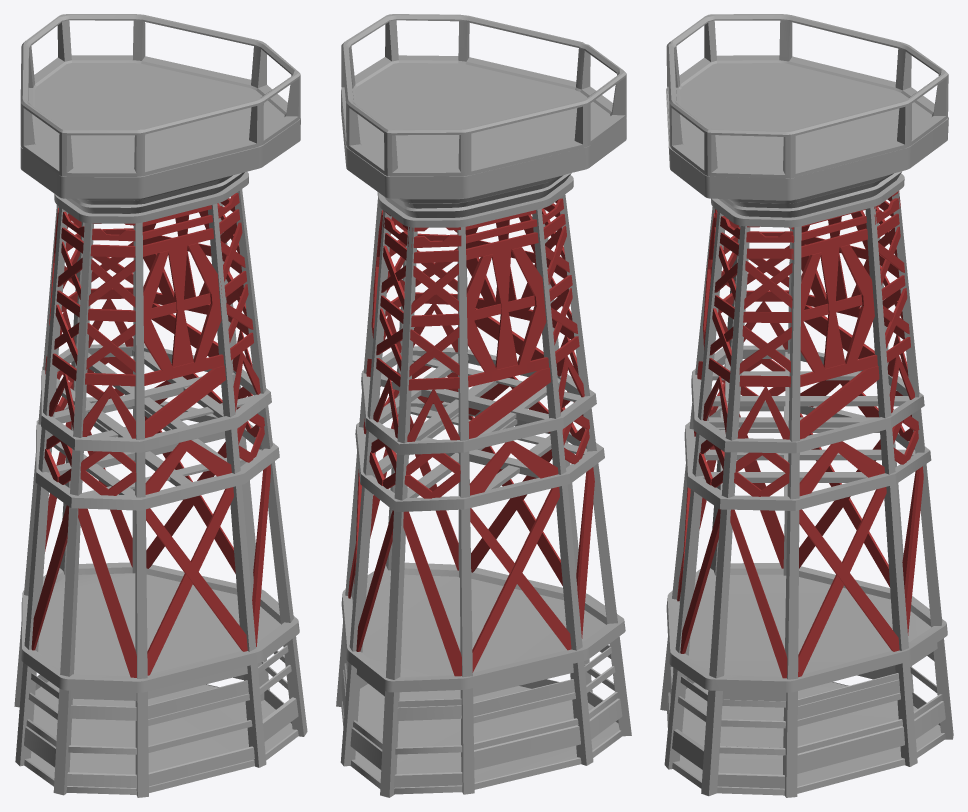
Rendered from GA_env_tower.fbx.
The picture shows the model from 3 angles, left to right: view 1: azimuth 30°, elevation 25°; view 2: azimuth 150°, elevation 25°; view 3: azimuth 270°, elevation 25°; orthographic projection.
Visible parts, largest first — view 1: Base_low, Deco_low; view 2: Base_low, Deco_low; view 3: Base_low, Deco_low.
Boxes of the visible parts, x1,y1,x2,y2 form: Base_low: (14, 14, 307, 797); Deco_low: (31, 193, 270, 677); Base_low: (336, 14, 631, 797); Deco_low: (348, 198, 594, 676); Base_low: (660, 14, 953, 797); Deco_low: (677, 191, 923, 678).
Size of the model in its own units: 605 by 1505 by 601.
